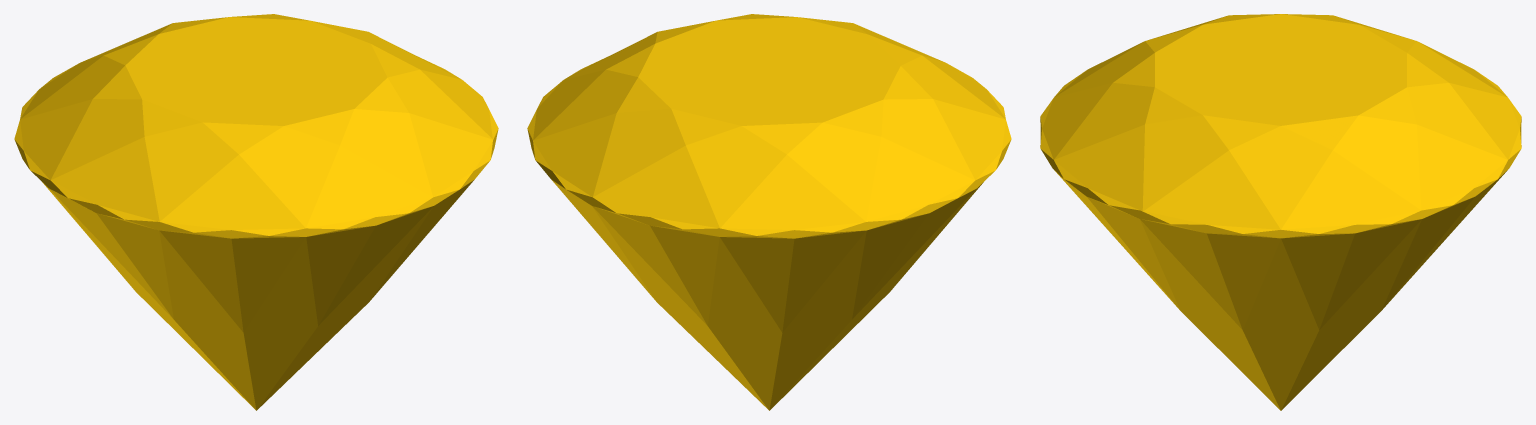
Rendered from YellowChaosEmerald.obj.
3 renders of one model, left to right at view 1: azimuth 30°, elevation 25°; view 2: azimuth 150°, elevation 25°; view 3: azimuth 270°, elevation 25°, orthographic.
Parts seen in each view (by area): view 1: emerald_5; view 2: emerald_5; view 3: emerald_5.
Boxes of the visible parts, left/top/right/bottom form: emerald_5: left=14, top=14, right=498, bottom=410; emerald_5: left=527, top=14, right=1011, bottom=410; emerald_5: left=1040, top=14, right=1521, bottom=410.
Bounding box in the file's own units: 0.0262 × 0.0205 × 0.0262.
